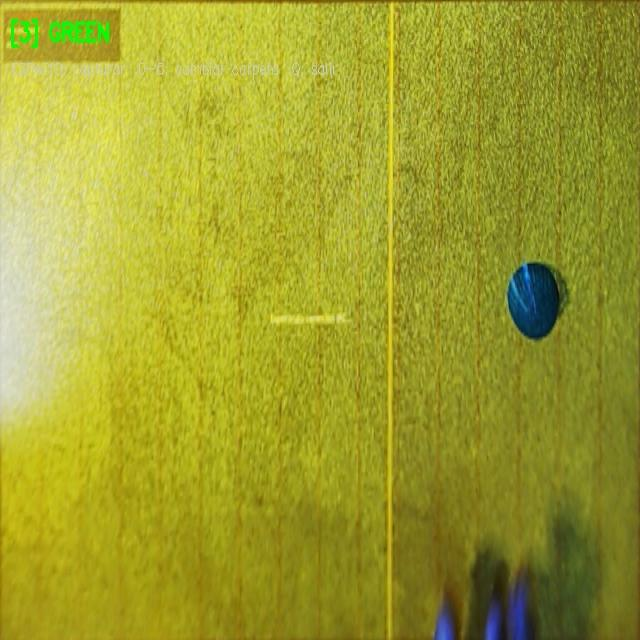green: (508, 262, 558, 342)
